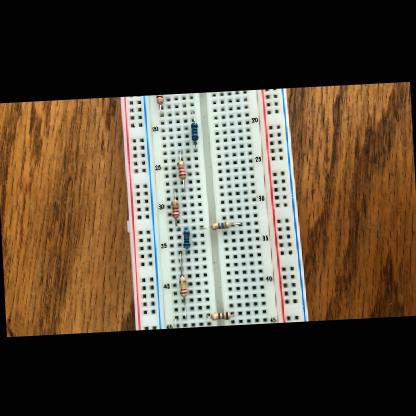breadboard: (119, 86, 309, 329)
resistor: (176, 158, 186, 178), (210, 220, 230, 229), (182, 228, 191, 247), (179, 275, 187, 296), (210, 310, 231, 318), (171, 197, 179, 216), (190, 121, 198, 138), (155, 94, 162, 103)
wire: (182, 296, 186, 318), (175, 315, 179, 327), (180, 250, 182, 274), (159, 104, 163, 115), (174, 217, 178, 228), (230, 221, 242, 224), (178, 149, 182, 158), (181, 179, 184, 190), (191, 109, 194, 120), (194, 139, 197, 150), (200, 223, 210, 226), (174, 188, 176, 197), (206, 313, 210, 317), (230, 311, 233, 315), (186, 247, 188, 253), (186, 224, 186, 228)
